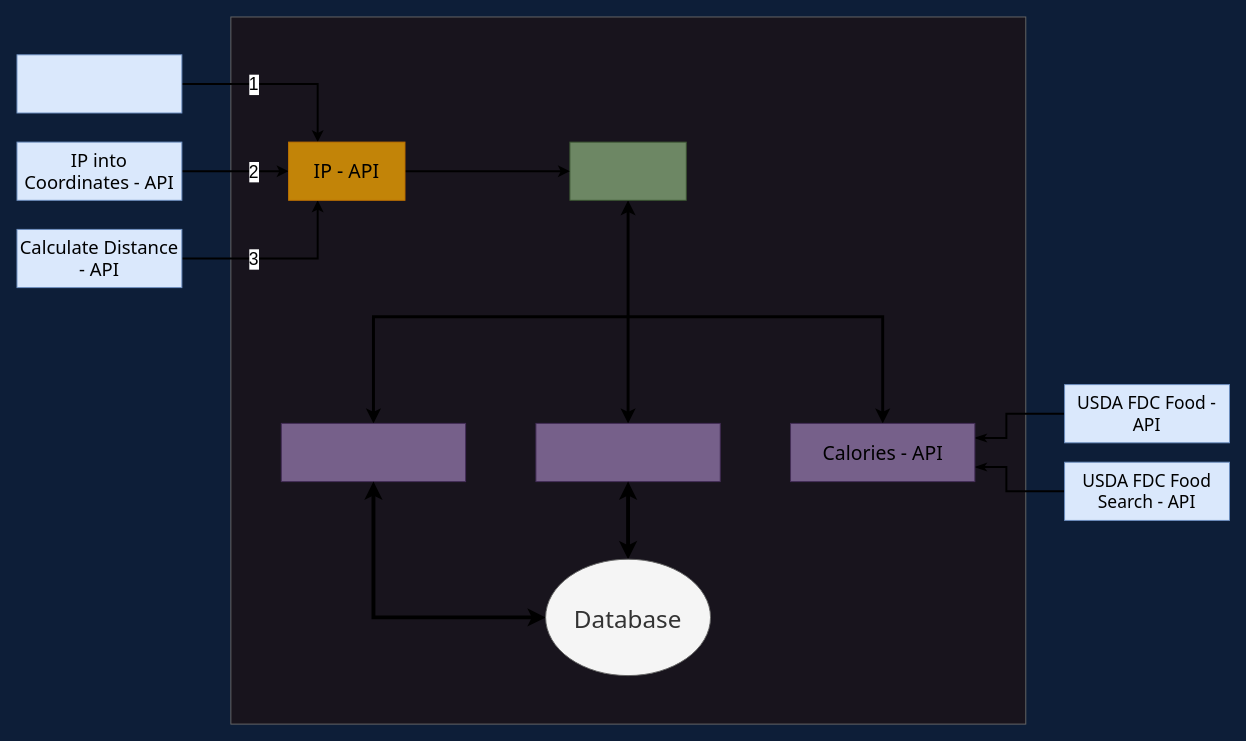
This 1246x741 diagram has some shape labels left out. Each missing label, with the centre of its shape:
"Frontend" belongs at point (627, 170).
"Get User IP - API" belongs at point (99, 83).
"Ingredients - API" belongs at point (627, 452).
"Recipes - API" belongs at point (373, 452).
